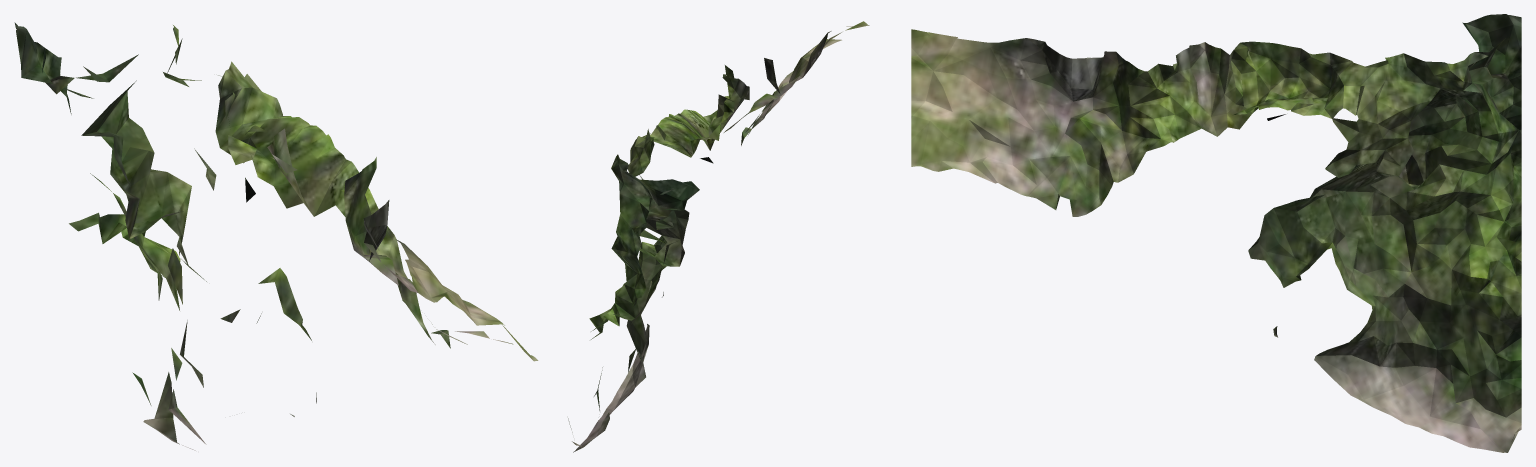
The picture shows the model from 3 angles, left to right: view 1: azimuth 30°, elevation 25°; view 2: azimuth 150°, elevation 25°; view 3: azimuth 270°, elevation 25°; orthographic projection. The views are drawn at different scales.
Bounding box in the file's own units: 7.1 × 17.62 × 26.11.
2 materials, 2 textured.
